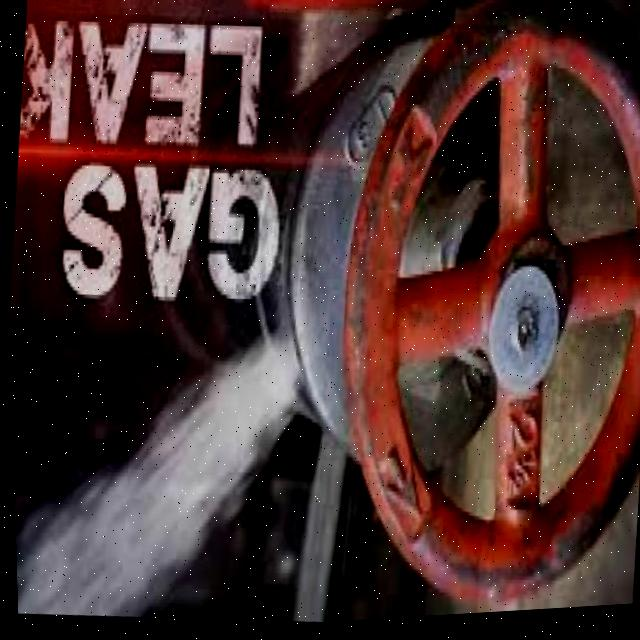corrosion: (12, 282, 360, 637)
